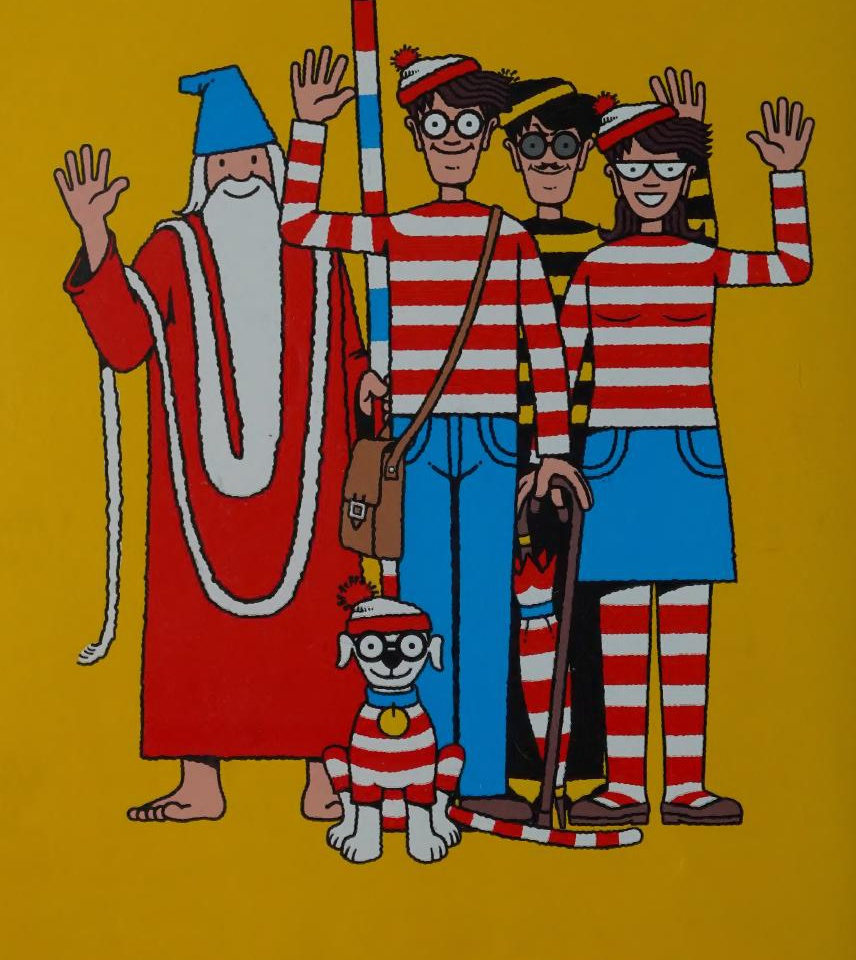waldo: (273, 45, 531, 408)
